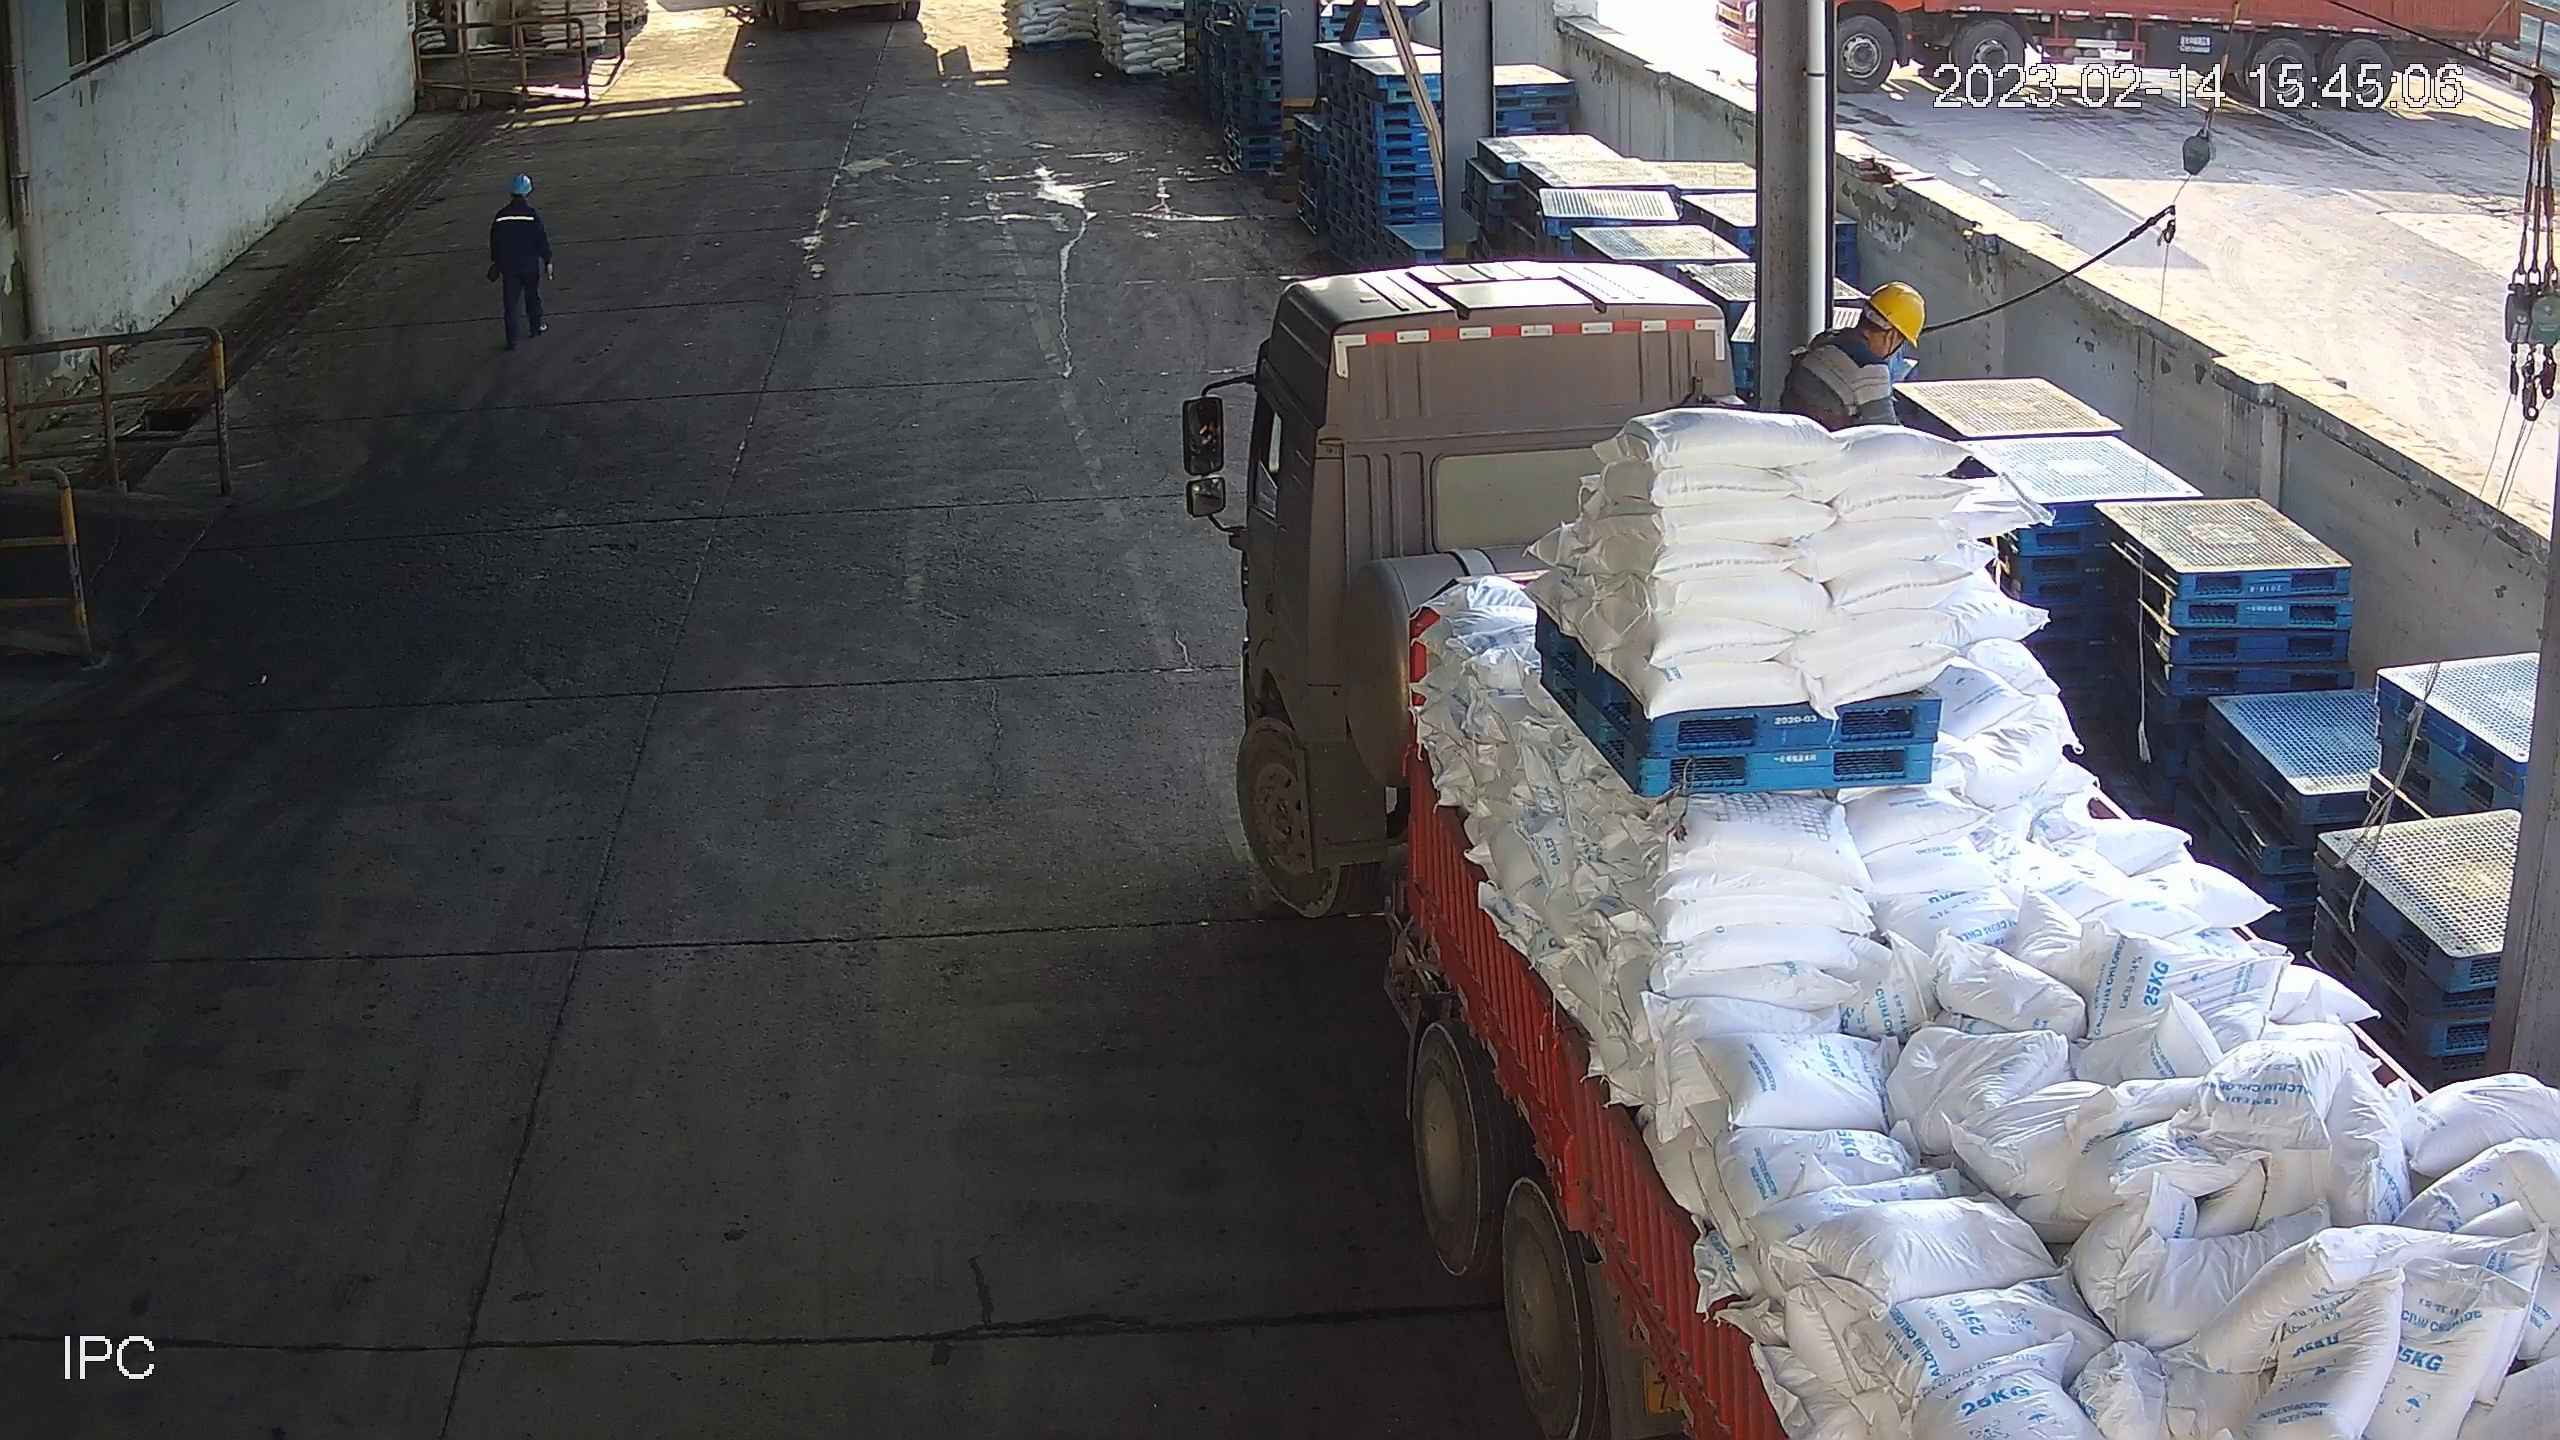belt: (1779, 330, 1861, 412)
head: (1811, 281, 1921, 390), (500, 172, 542, 222)
helmet: (1872, 279, 1927, 346), (511, 169, 535, 190)
people: (481, 169, 551, 350)
truck: (1184, 257, 2560, 1440)
